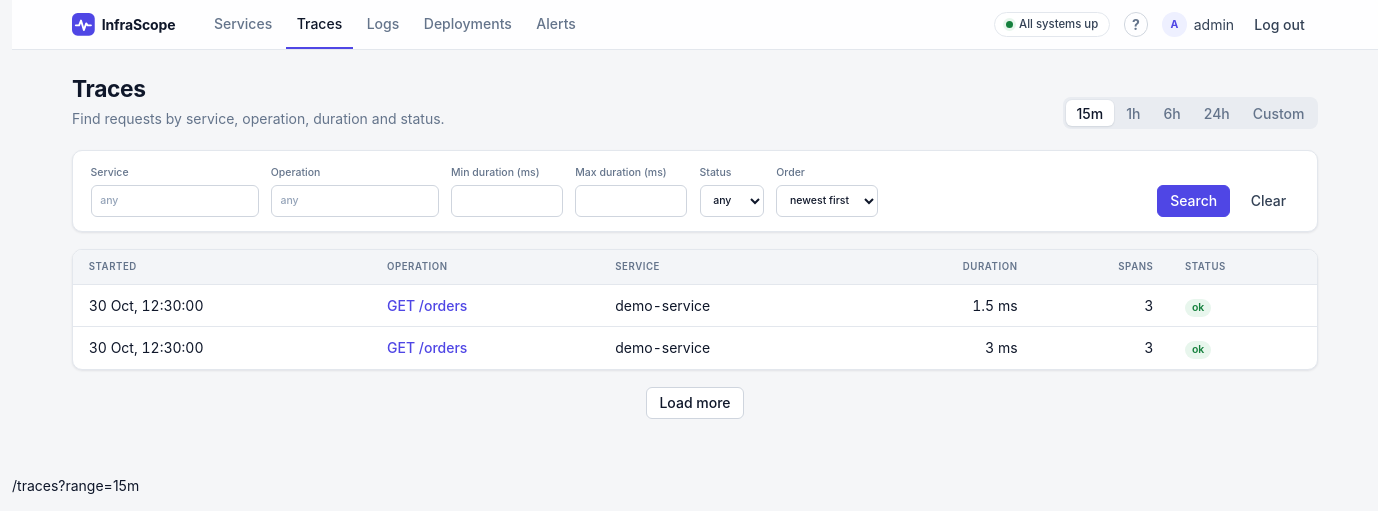
trace explorer › loads more results with the cursor and the same time bounds
The image size is (1378, 511).
Click the button "Load more": click(695, 403) [646,387,744,419]
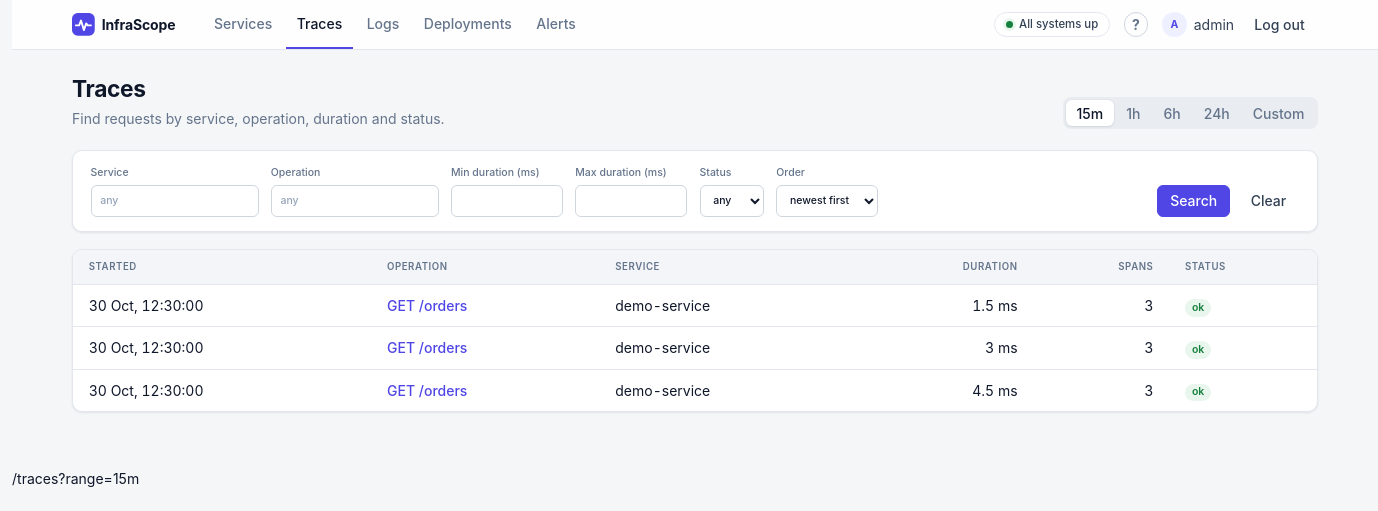
Result: the number of rows is 4 at [73,250,1317,285]; [73,285,1317,327]; [73,327,1317,369]; [73,369,1317,411]
Result: the button "Load more" is gone
